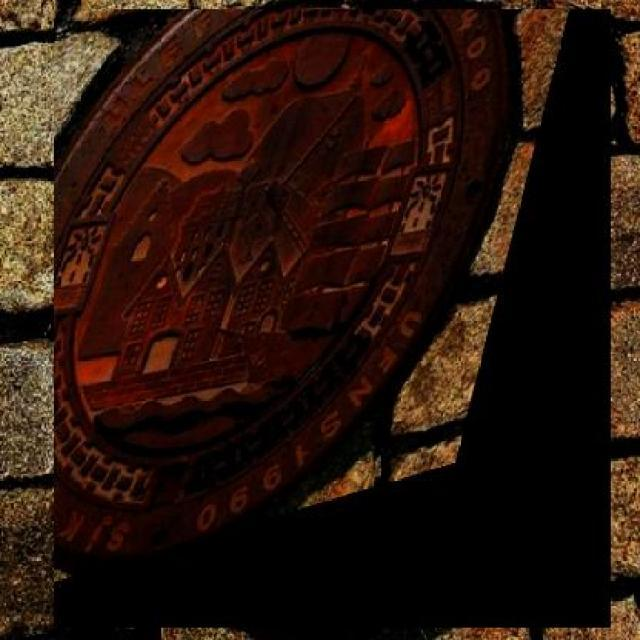Manhole: (54, 9, 611, 628)
